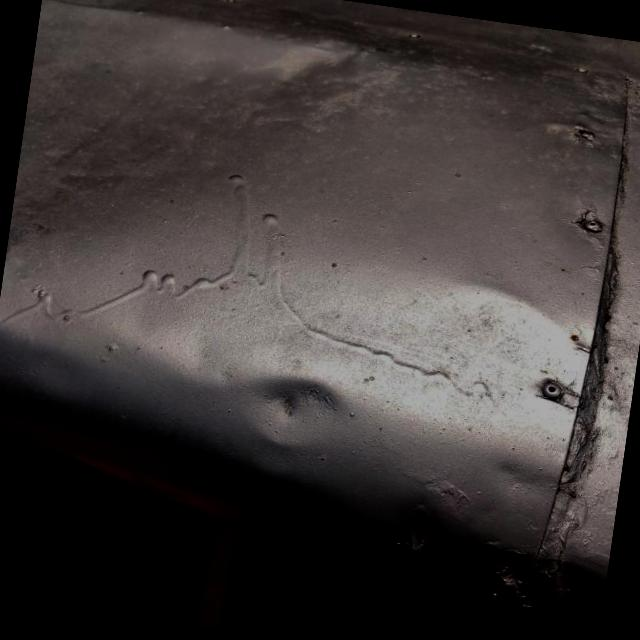dent: (206, 356, 362, 494), (350, 469, 510, 592)
